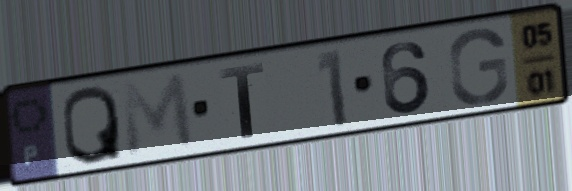1: (314, 45, 351, 130)
6: (377, 39, 435, 116)
G: (445, 26, 511, 107)
M: (116, 69, 199, 161)
Q: (60, 81, 126, 167)
T: (216, 60, 267, 141)
